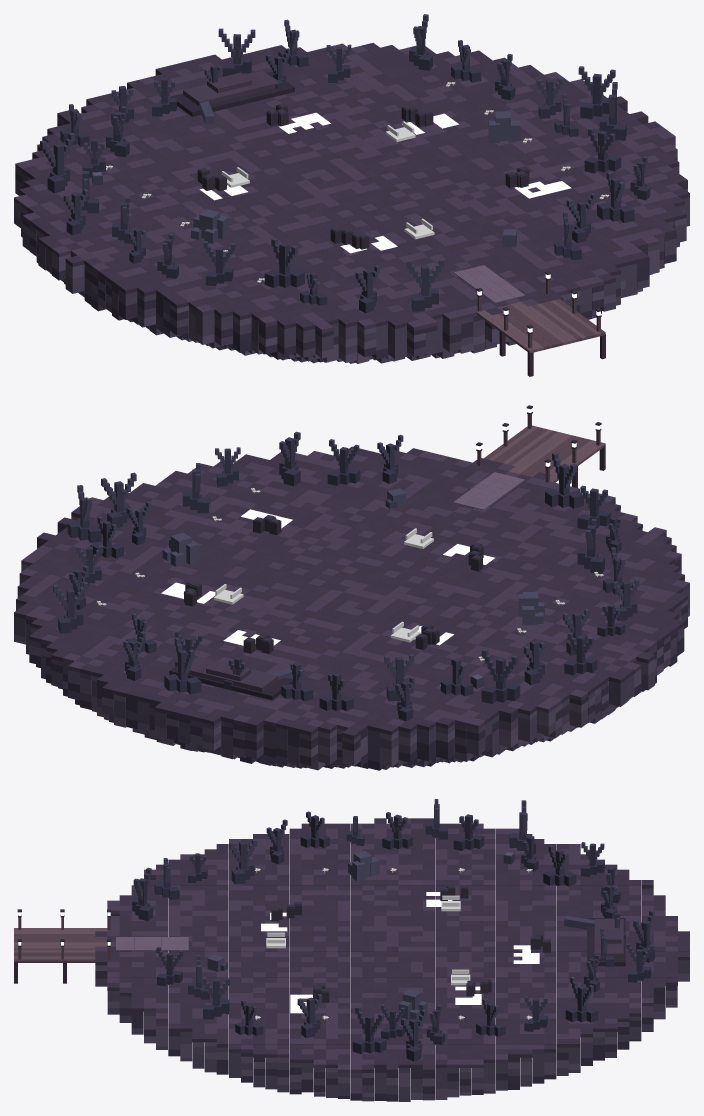
The model's file is landing_polluted.glb.
3 renders of one model, top to bottom at view 1: azimuth 30°, elevation 25°; view 2: azimuth 150°, elevation 25°; view 3: azimuth 270°, elevation 25°, orthographic. The views are drawn at different scales.
Parts seen in each view (by area): view 1: landing_blocks, tree4_(0, 0).006, tree2_(0, 0).006, tree5_(0, 0).002, tree2_(0, 0).009, tree1_(0, 0).003, tree4_(0, 0).005, tree5_(0, 0).001, rock_outcrop_(0, 0).001, tree2_(0, 0).004, rock_outcrop_(0, 0).002, tree2_(0, 0).007 (+17 smaller); view 2: landing_blocks, tree5_(0, 0).002, tree2_(0, 0).009, tree5_(0, 0).001, tree2_(0, 0).003, tree2_(0, 0).005, tree2_(0, 0).006, tree2_(0, 0).007, rock_outcrop_(0, 0).002, tree4_(0, 0).007, tree4_(0, 0).001, tree4_(0, 0).005 (+18 smaller); view 3: landing_blocks, tree2_(0, 0).003, tree2_(0, 0).005, tree4_(0, 0).006, tree4_(0, 0).005, tree1_(0, 0).001, tree2_(0, 0).006, rock_outcrop_(0, 0).001, tree0_(0, 0).002, tree1_(0, 0).005, tree2_(0, 0).009, tree1_(0, 0).003 (+13 smaller).
Boxes of the visible parts, box(x1,y1,x2,y2) form: landing_blocks: box(14, 42, 689, 376); tree4_(0, 0).006: box(264, 237, 304, 287); tree2_(0, 0).006: box(578, 66, 615, 118); tree5_(0, 0).002: box(40, 132, 74, 193); tree2_(0, 0).009: box(406, 258, 443, 311); tree1_(0, 0).003: box(584, 127, 621, 173); tree4_(0, 0).005: box(597, 171, 634, 222); tree5_(0, 0).001: box(218, 28, 255, 76); rock_outcrop_(0, 0).001: box(191, 209, 228, 243); tree2_(0, 0).004: box(203, 241, 235, 285); rock_outcrop_(0, 0).002: box(488, 111, 520, 142); tree2_(0, 0).007: box(566, 193, 596, 242); landing_blocks: box(14, 405, 689, 770); tree5_(0, 0).002: box(481, 648, 520, 703); tree2_(0, 0).009: box(545, 452, 583, 508); tree5_(0, 0).001: box(164, 637, 201, 694); tree2_(0, 0).003: box(101, 472, 136, 527); tree2_(0, 0).005: box(53, 582, 88, 633); tree2_(0, 0).006: box(67, 485, 101, 542); tree2_(0, 0).007: box(327, 439, 360, 485); rock_outcrop_(0, 0).002: box(162, 532, 198, 566); tree4_(0, 0).007: box(564, 632, 597, 675); tree4_(0, 0).001: box(577, 485, 610, 529); tree4_(0, 0).005: box(279, 431, 300, 486); landing_blocks: box(14, 818, 689, 1101); tree2_(0, 0).003: box(352, 1006, 386, 1053); tree2_(0, 0).005: box(565, 976, 598, 1022); tree4_(0, 0).006: box(229, 839, 257, 884); tree4_(0, 0).005: box(202, 977, 229, 1019); tree1_(0, 0).001: box(543, 845, 576, 886); tree2_(0, 0).006: box(401, 1009, 426, 1061); rock_outcrop_(0, 0).001: box(348, 851, 379, 881); tree0_(0, 0).002: box(453, 814, 484, 850); tree1_(0, 0).005: box(382, 812, 412, 849); tree2_(0, 0).009: box(132, 867, 152, 920); tree1_(0, 0).003: box(297, 994, 322, 1038).
Size of the model in its own units: 61.24 by 14.88 by 69.62.
